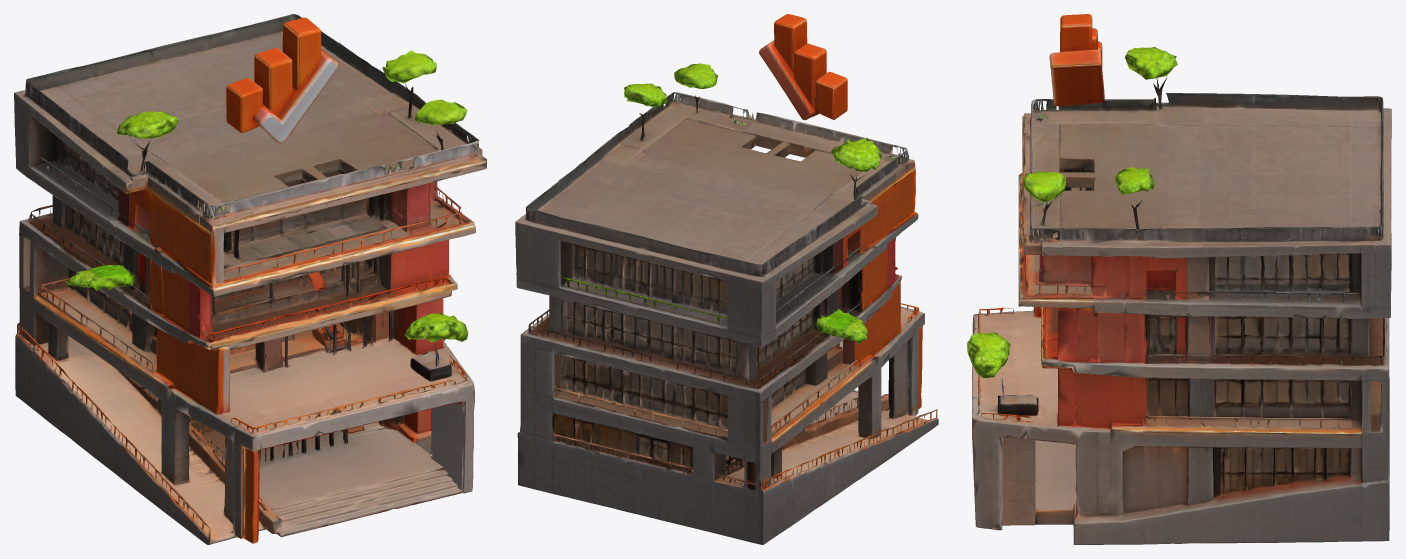
Rendered from tasks-building-v3.glb.
3 views of the same model, side by side, from view 1: azimuth 30°, elevation 25°; view 2: azimuth 150°, elevation 25°; view 3: azimuth 270°, elevation 25° (orthographic). The views are drawn at different scales.
Visible parts, largest first — view 1: TasksShell, TasksLogo; view 2: TasksShell, TasksLogo; view 3: TasksShell, TasksLogo.
Part boxes in pixels (left/top/right/bottom): TasksShell: left=14, top=14, right=486, bottom=544; TasksLogo: left=226, top=17, right=338, bottom=143; TasksShell: left=515, top=63, right=938, bottom=544; TasksLogo: left=759, top=14, right=847, bottom=120; TasksShell: left=967, top=47, right=1391, bottom=544; TasksLogo: left=1049, top=14, right=1104, bottom=106.
Bounding box in the file's own units: 0.726 × 0.9799 × 0.8308.
Materials: 2 (2 with a texture image).
